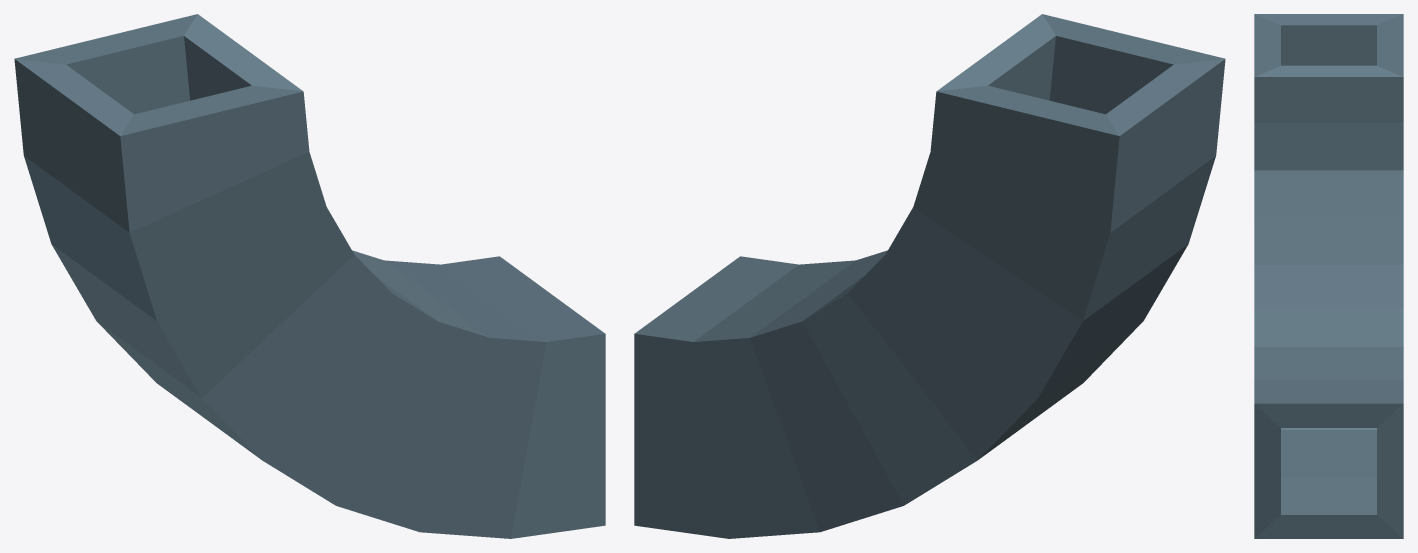
File: P42_Square_Elbow90.fbx
3 views of the same model, side by side, from view 1: azimuth 30°, elevation 25°; view 2: azimuth 150°, elevation 25°; view 3: azimuth 270°, elevation 25° (orthographic). The views are drawn at different scales.
Parts seen in each view (by area): view 1: P42_Square_Elbow90; view 2: P42_Square_Elbow90; view 3: P42_Square_Elbow90.
Boxes of the visible parts, x1=… form: P42_Square_Elbow90: x1=14, y1=14, x2=605, y2=538; P42_Square_Elbow90: x1=634, y1=14, x2=1225, y2=538; P42_Square_Elbow90: x1=1254, y1=14, x2=1403, y2=538.
Bounding box in the file's own units: 1.05 × 1.05 × 0.396.
1 material, 1 textured.
